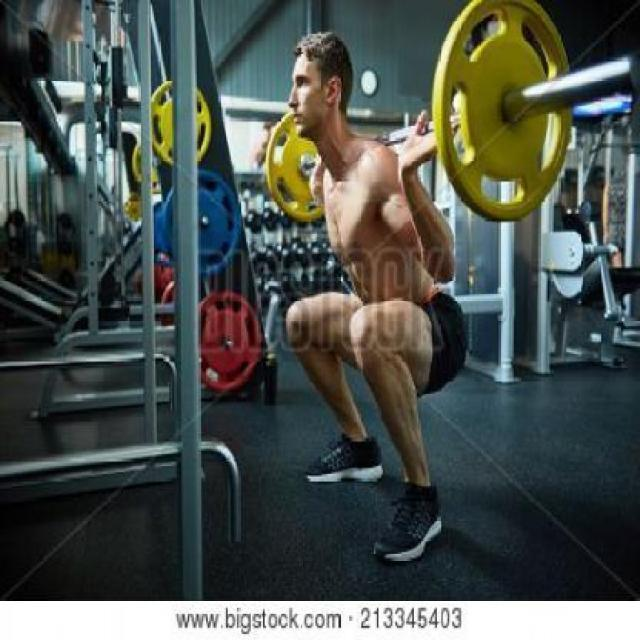Barbell: (610, 42, 638, 100)
